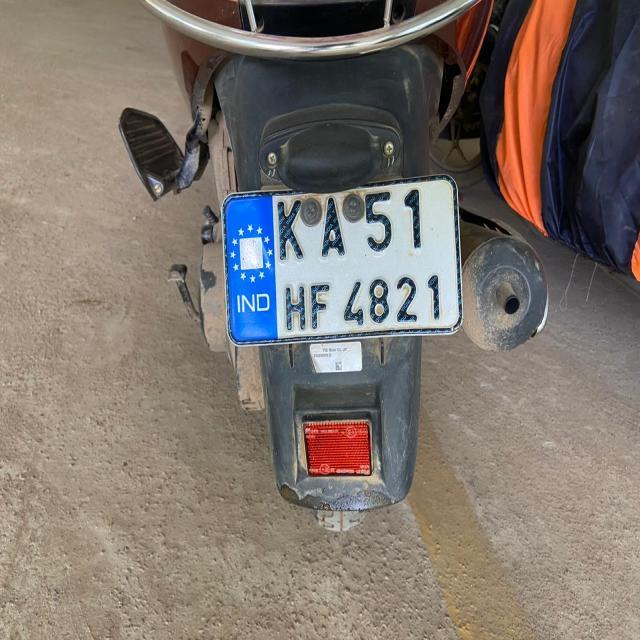1: (400, 183, 430, 256), (426, 270, 446, 326)
4: (339, 275, 366, 333)
5: (362, 182, 395, 260)
8: (367, 272, 390, 326)
A: (318, 188, 350, 265)
F: (308, 275, 333, 329)
H: (283, 276, 309, 340)
K: (272, 196, 306, 268)
